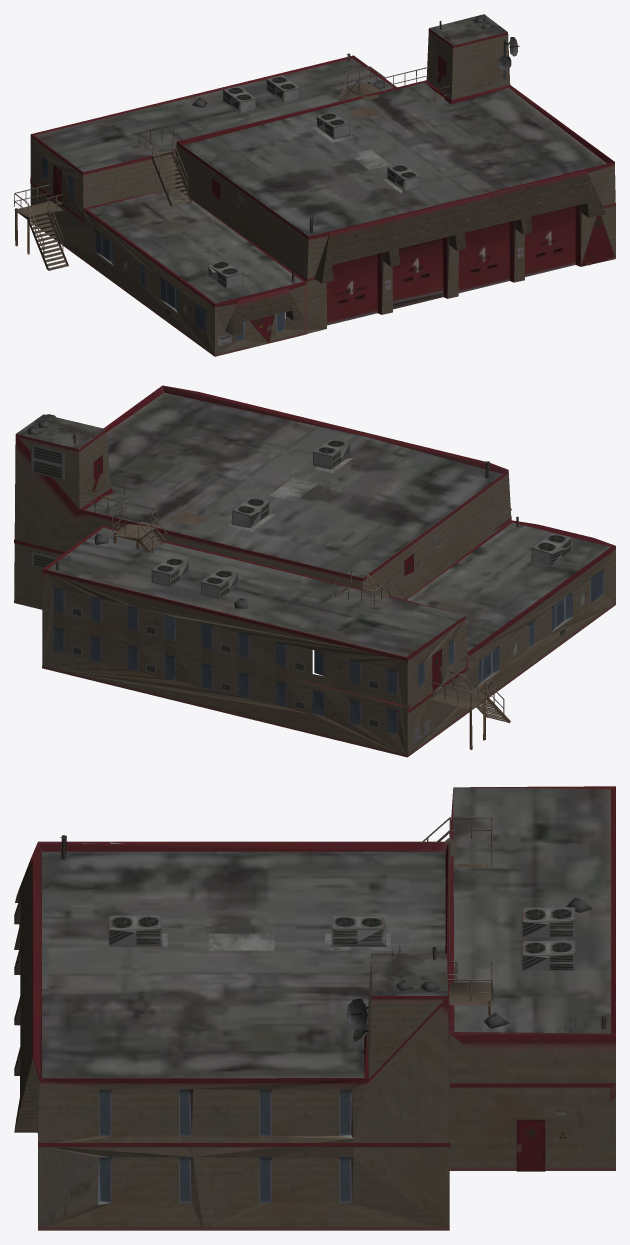
File: fire_station_lod1.glb
3 renders of one model, top to bottom at view 1: azimuth 30°, elevation 25°; view 2: azimuth 150°, elevation 25°; view 3: azimuth 270°, elevation 25°, orthographic. The views are drawn at different scales.
Parts seen in each view (by area): view 1: fire_station; view 2: fire_station; view 3: fire_station.
Part boxes in pixels (<box>): fire_station: <box>14,14,615,356</box>; fire_station: <box>14,385,615,757</box>; fire_station: <box>14,786,615,1230</box>.
Bounding box in the file's own units: 31.27 × 10.56 × 23.39.
Materials: 1 (1 with a texture image).
